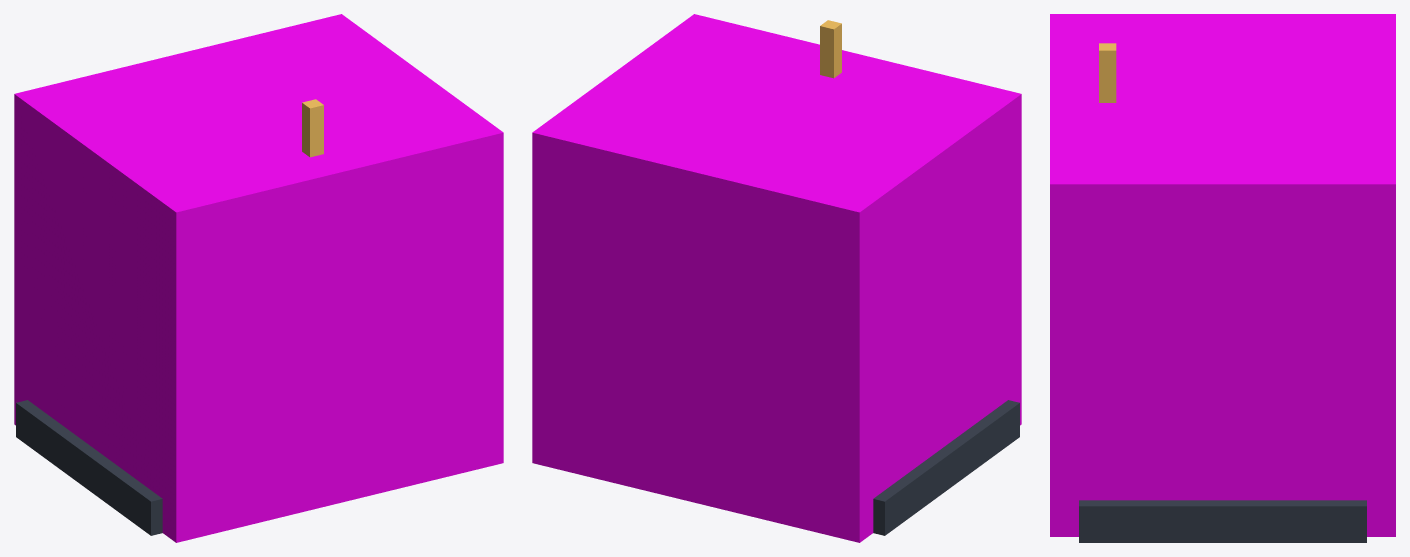
Rendered from battery.glb.
The picture shows the model from 3 angles, left to right: view 1: azimuth 30°, elevation 25°; view 2: azimuth 150°, elevation 25°; view 3: azimuth 270°, elevation 25°; orthographic projection. The views are drawn at different scales.
Visible parts, largest first — view 1: Col_main, M_b1, M_b5; view 2: Col_main, M_b1, M_b5; view 3: Col_main, M_b1, M_b5.
Boxes of the visible parts, bbox=[...] form: Col_main: bbox=[14, 14, 503, 542]; M_b1: bbox=[16, 400, 162, 535]; M_b5: bbox=[302, 99, 323, 157]; Col_main: bbox=[532, 14, 1021, 542]; M_b1: bbox=[873, 400, 1019, 535]; M_b5: bbox=[820, 20, 841, 78]; Col_main: bbox=[1050, 14, 1395, 536]; M_b1: bbox=[1079, 500, 1366, 542]; M_b5: bbox=[1099, 43, 1116, 102].
Bounding box in the file's own units: 1.5 × 1.55 × 1.2.
